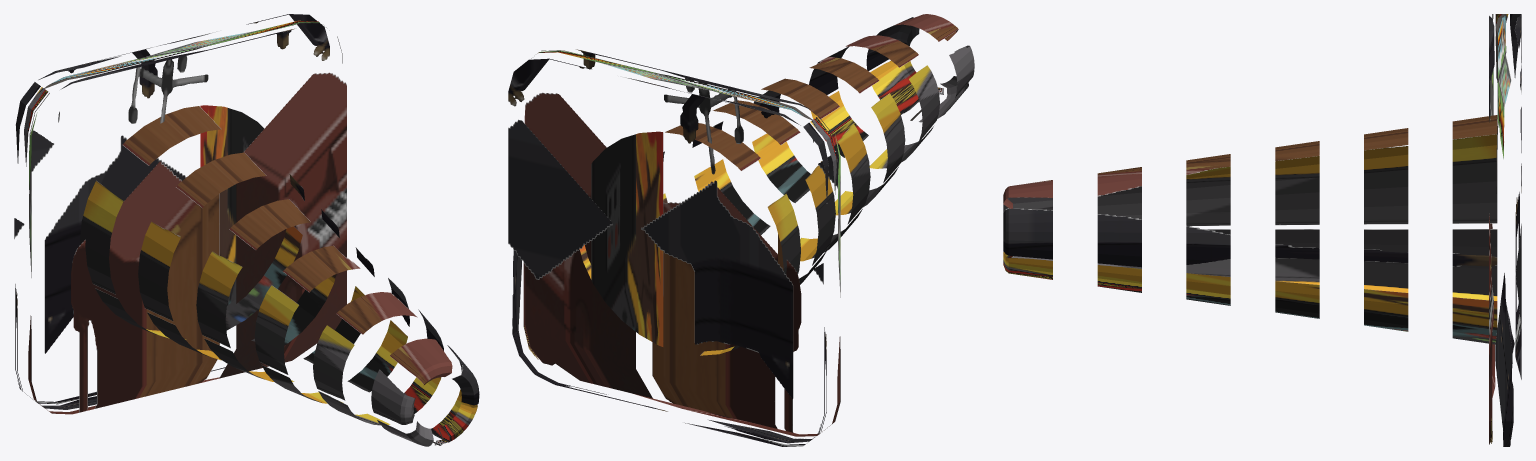
3 views of the same model, side by side, from view 1: azimuth 30°, elevation 25°; view 2: azimuth 150°, elevation 25°; view 3: azimuth 270°, elevation 25° (orthographic). The views are drawn at different scales.
Size of the model in its own units: 0.3582 by 0.3591 by 0.5341.
